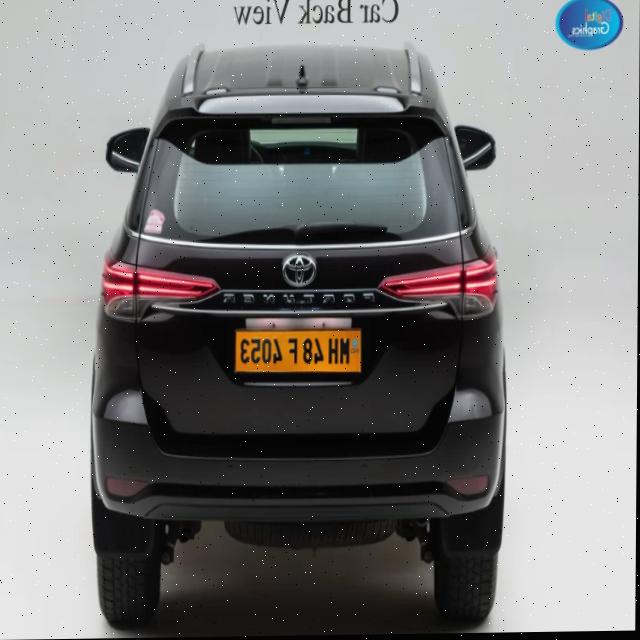plate: (231, 325, 367, 383)
